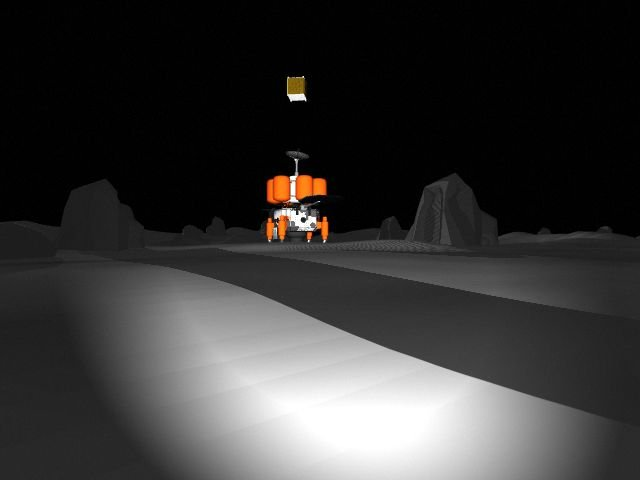cubesat: (282, 72, 319, 108)
